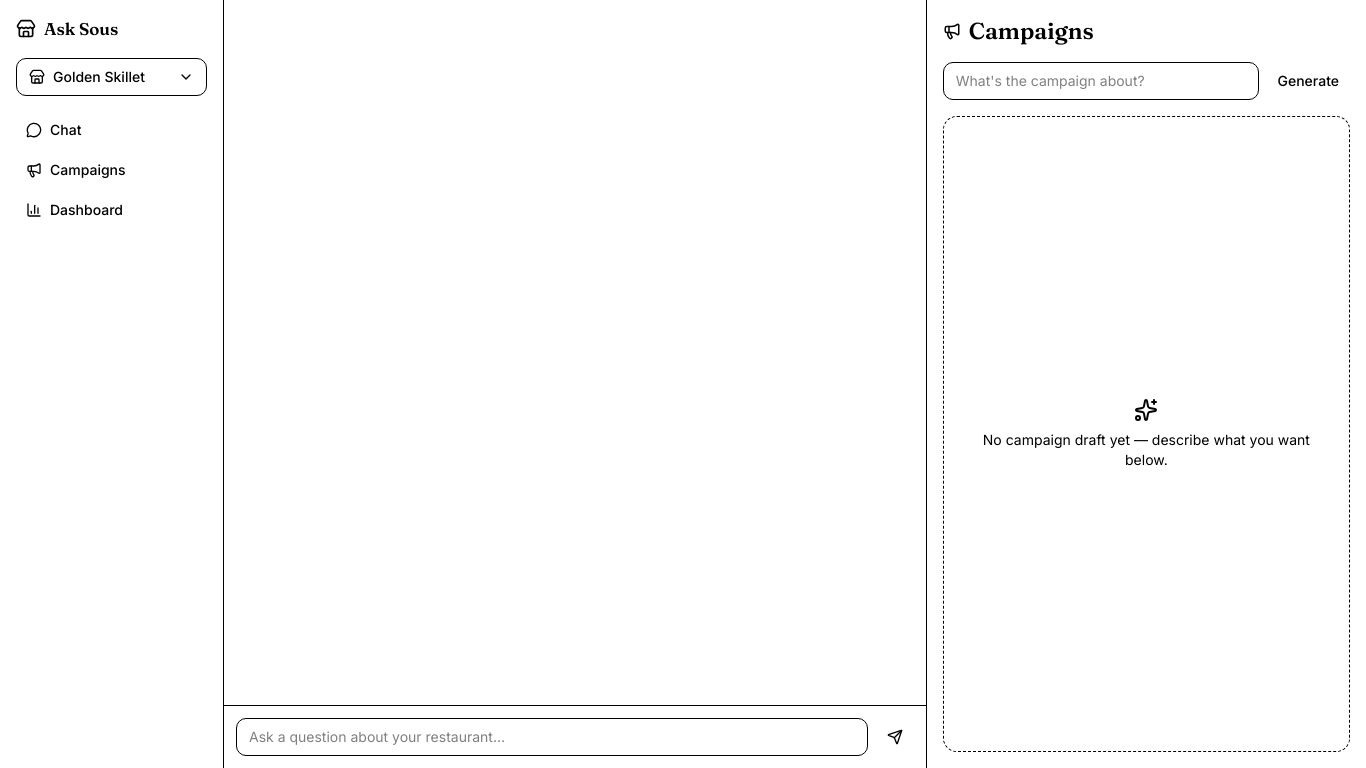
Test: App › clears chat history when switching restaurants
Expected: the text "Ask Sous" is shown, [44,16,118,42]
Type "how much did I make?" into the field with placeholder "Ask a question about your restaurant…".
click(552, 737); type("how much did I make?")  # box [236,718,868,756]
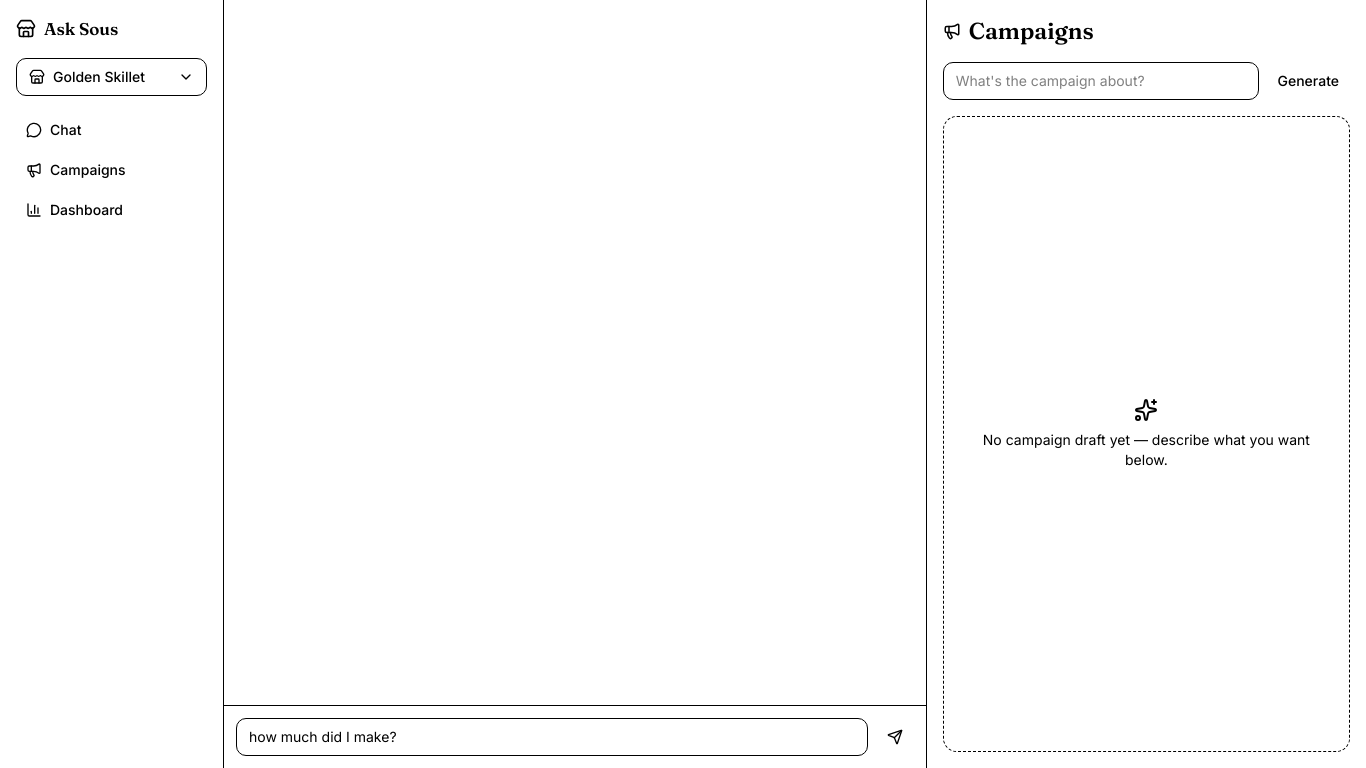
Click the button named "send".
click(895, 737)  # box [876,721,914,753]
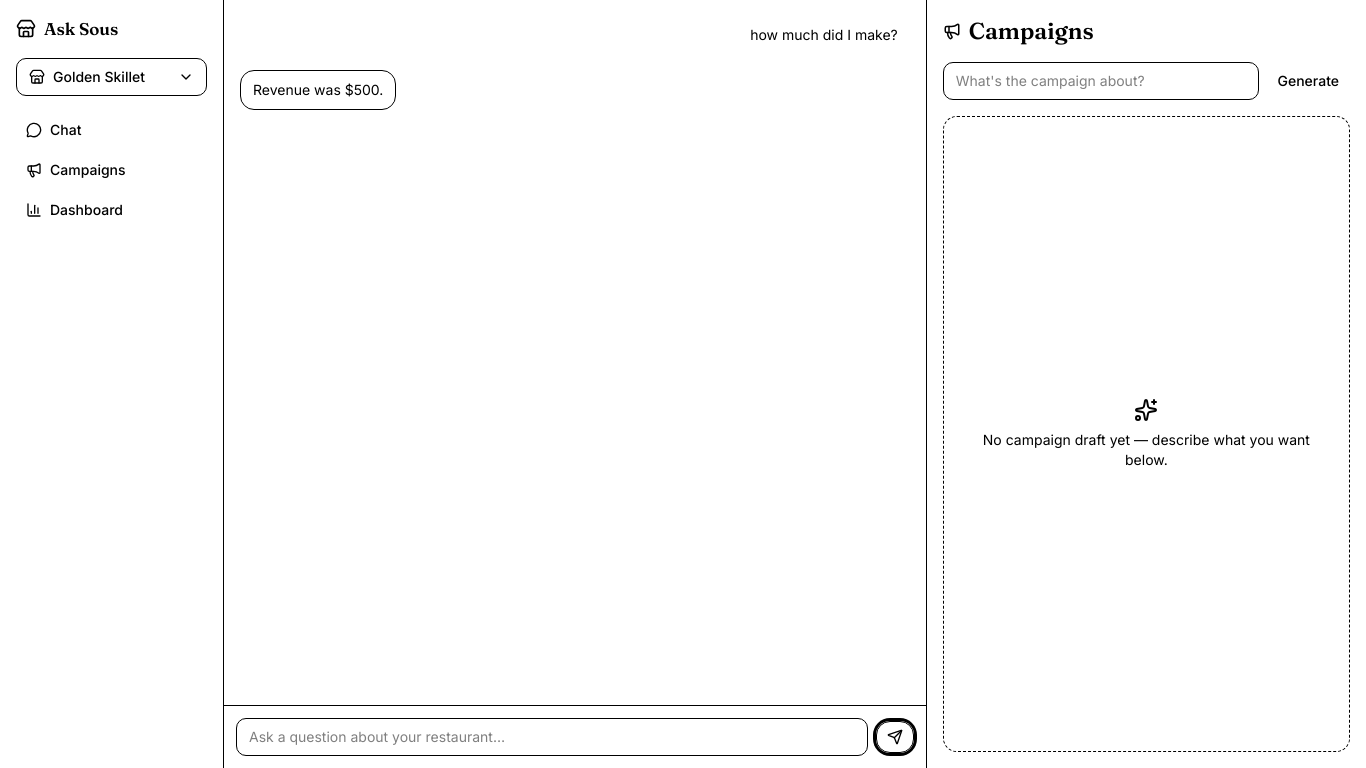
Now the text "Revenue was $500." is shown, box [253,79,383,101]
Click the button "Golden Skillet".
click(112, 76)  # box [16,58,207,96]
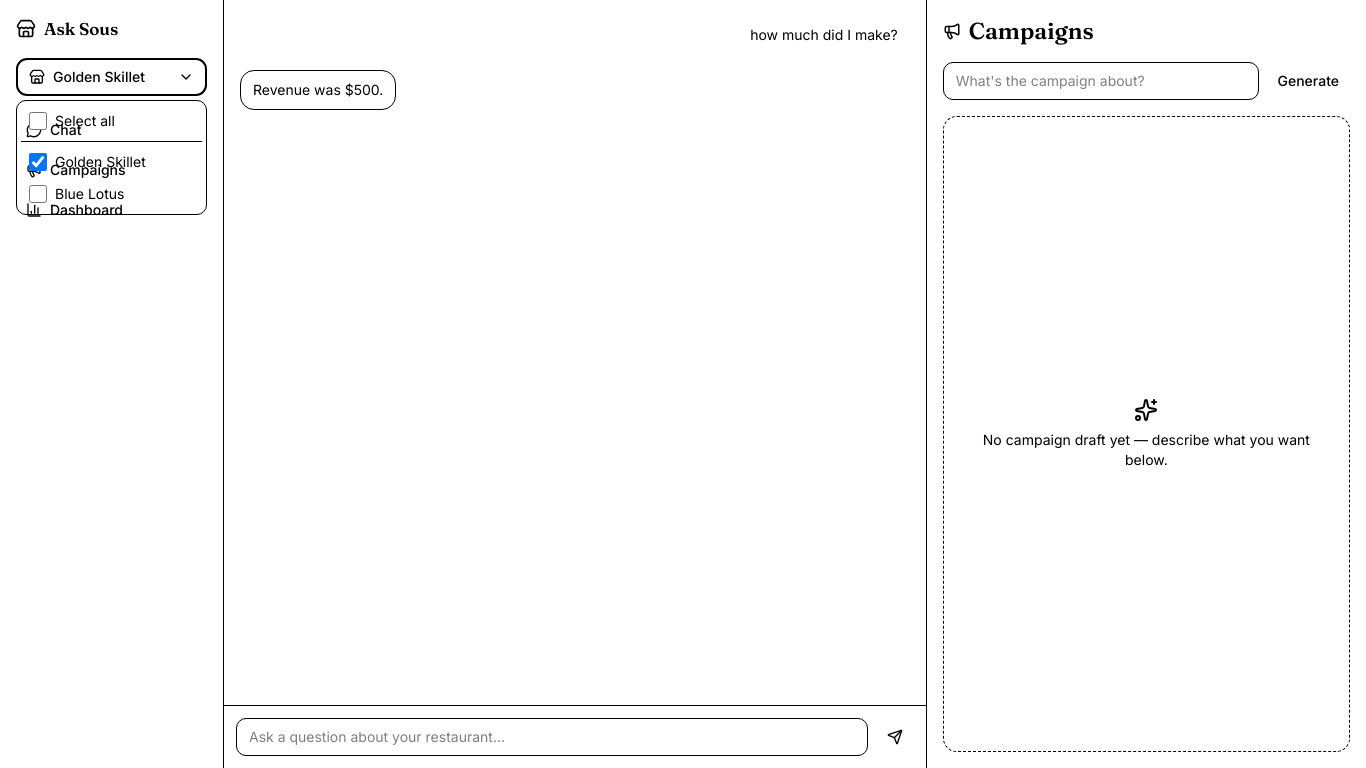
Click the checkbox labelled "Blue Lotus".
click(38, 194)  # box [29,184,47,202]
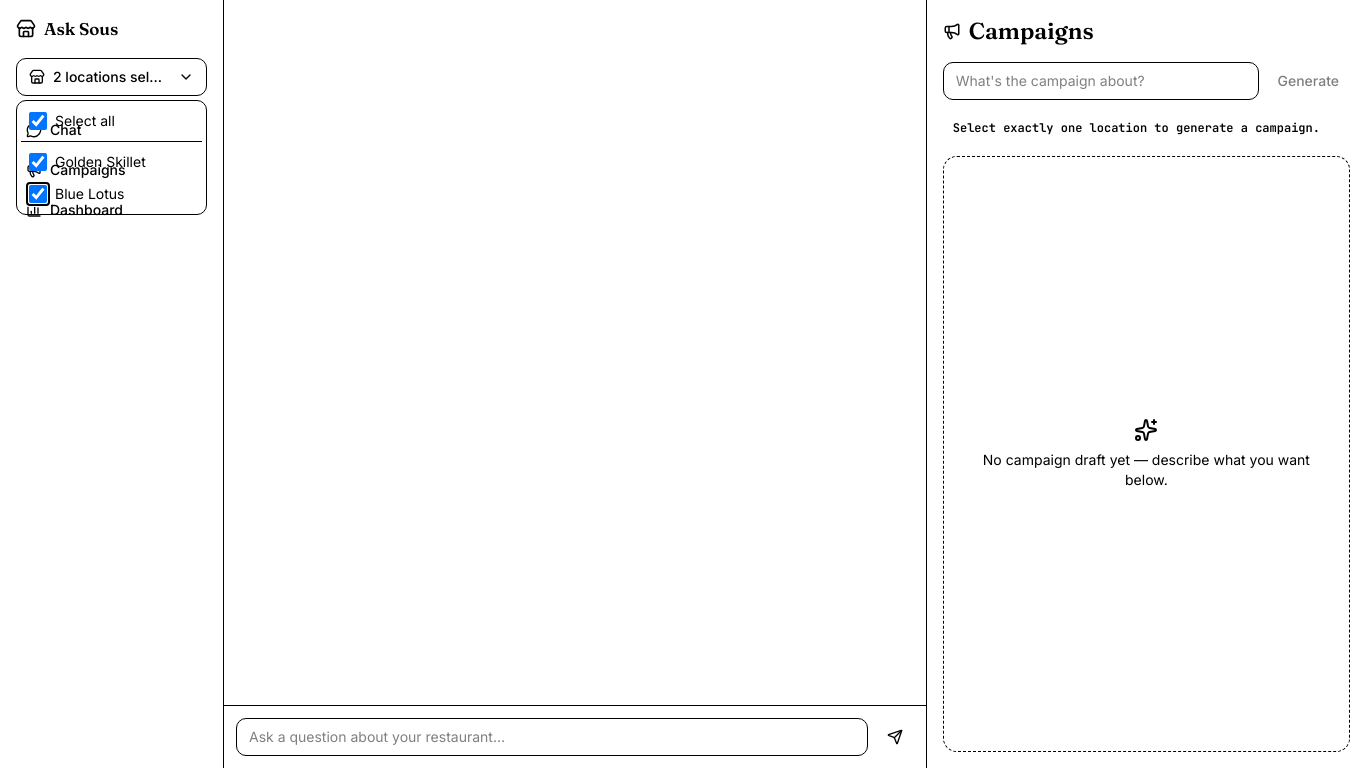
Now the text "Revenue was $500." is gone
